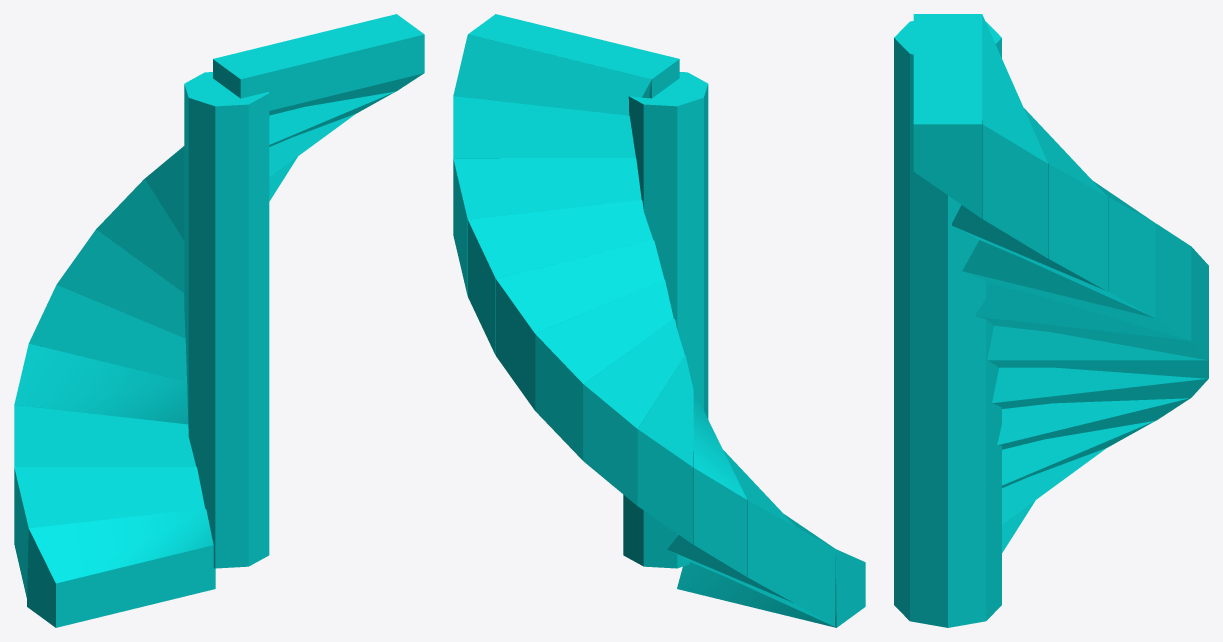
Rendered from SM_Bld_Stairs_Curve_02_Collision.fbx.
3 views of the same model, side by side, from view 1: azimuth 30°, elevation 25°; view 2: azimuth 150°, elevation 25°; view 3: azimuth 270°, elevation 25° (orthographic). The views are drawn at different scales.
Parts seen in each view (by area): view 1: SM_Bld_Stairs_Curve_02_Collision; view 2: SM_Bld_Stairs_Curve_02_Collision; view 3: SM_Bld_Stairs_Curve_02_Collision.
Boxes of the visible parts, bbox=[...] form: SM_Bld_Stairs_Curve_02_Collision: bbox=[14, 14, 424, 627]; SM_Bld_Stairs_Curve_02_Collision: bbox=[453, 14, 865, 627]; SM_Bld_Stairs_Curve_02_Collision: bbox=[894, 14, 1208, 627].
Bounding box in the file's own units: 251 × 327 × 151.
